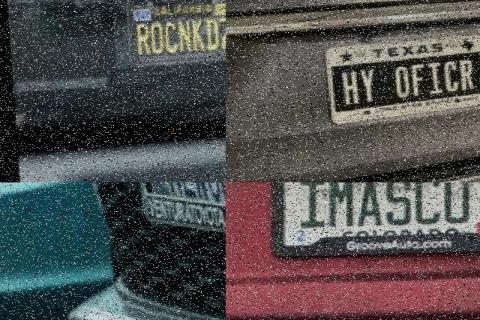LicensePlate: (271, 181, 478, 257), (323, 35, 478, 125), (118, 182, 225, 280), (127, 0, 225, 67)
